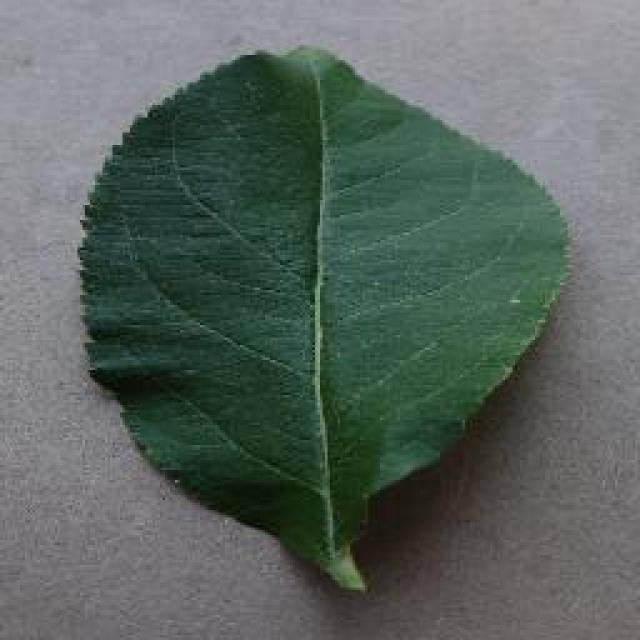Apple___healthy: (62, 30, 580, 608)
